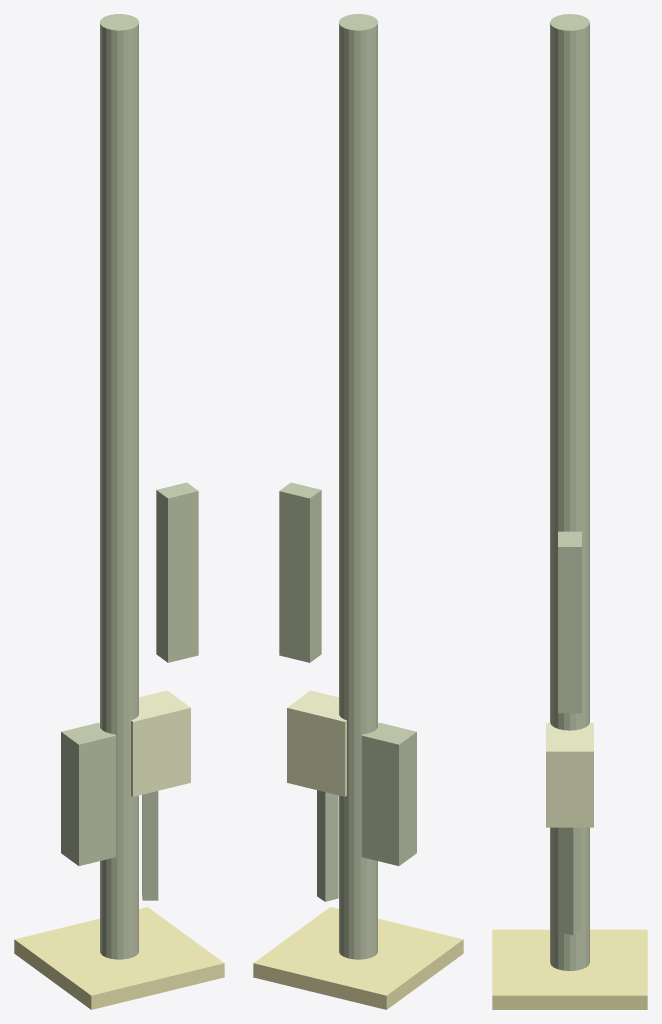
Rendered from furniture_rail_gate_mast.glb.
The picture shows the model from 3 angles, left to right: view 1: azimuth 30°, elevation 25°; view 2: azimuth 150°, elevation 25°; view 3: azimuth 270°, elevation 25°; orthographic projection.
Parts seen in each view (by area): view 1: mast, base_pad, signal_mount, counterweight, hinge_box, brace; view 2: mast, base_pad, signal_mount, counterweight, hinge_box, brace; view 3: mast, base_pad, hinge_box, signal_mount, brace.
Boxes of the visible parts, box(x1,y1,x2,y2) form: mast: box(100, 14, 138, 959); base_pad: box(14, 907, 224, 1009); signal_mount: box(156, 482, 198, 662); counterweight: box(61, 722, 116, 865); hinge_box: box(131, 690, 190, 796); brace: box(142, 791, 158, 900); mast: box(339, 14, 377, 959); base_pad: box(253, 907, 463, 1009); signal_mount: box(279, 482, 321, 662); counterweight: box(361, 722, 416, 865); hinge_box: box(287, 690, 346, 796); brace: box(317, 790, 338, 901); mast: box(550, 14, 589, 970); base_pad: box(492, 929, 647, 1009); hinge_box: box(546, 723, 593, 827); signal_mount: box(558, 531, 581, 713); brace: box(559, 827, 580, 935).
Size of the model in its own units: 0.82 by 5.28 by 0.78.
